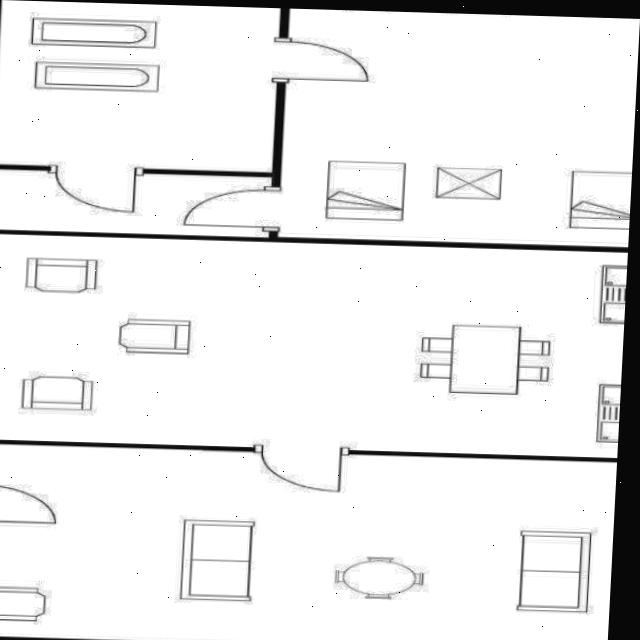room: (0, 234, 628, 458), (0, 444, 617, 640), (279, 8, 640, 248), (0, 0, 279, 172), (0, 170, 269, 237)
